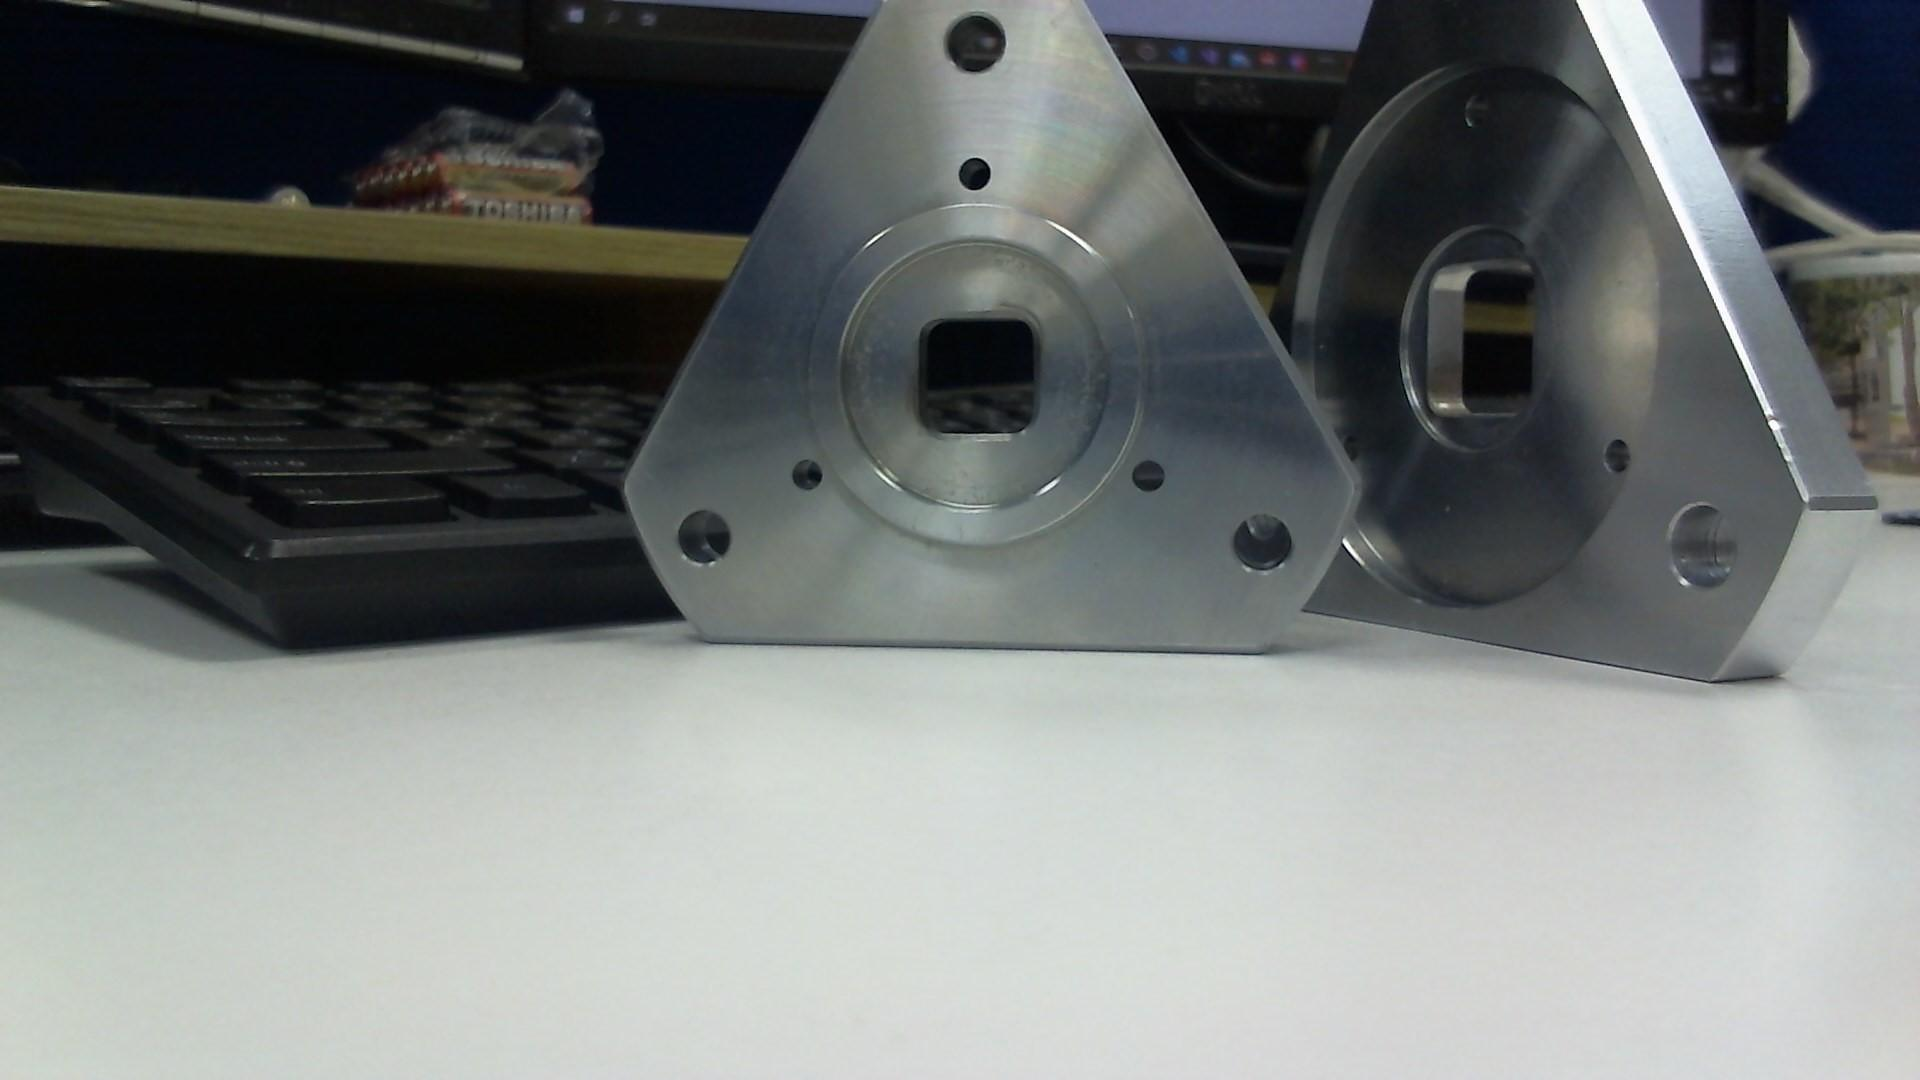hole: (1662, 497, 1743, 592), (1222, 505, 1302, 578), (938, 4, 1011, 79), (666, 505, 741, 570)
